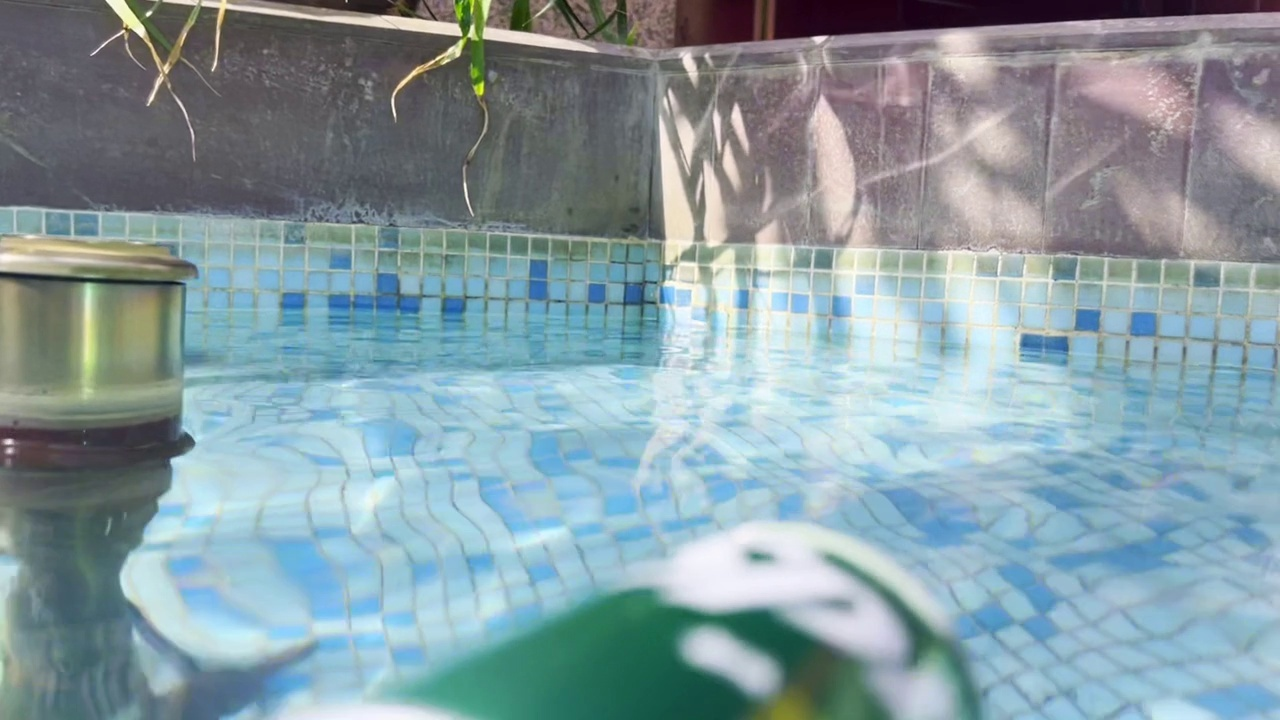debris: (270, 470, 990, 720)
